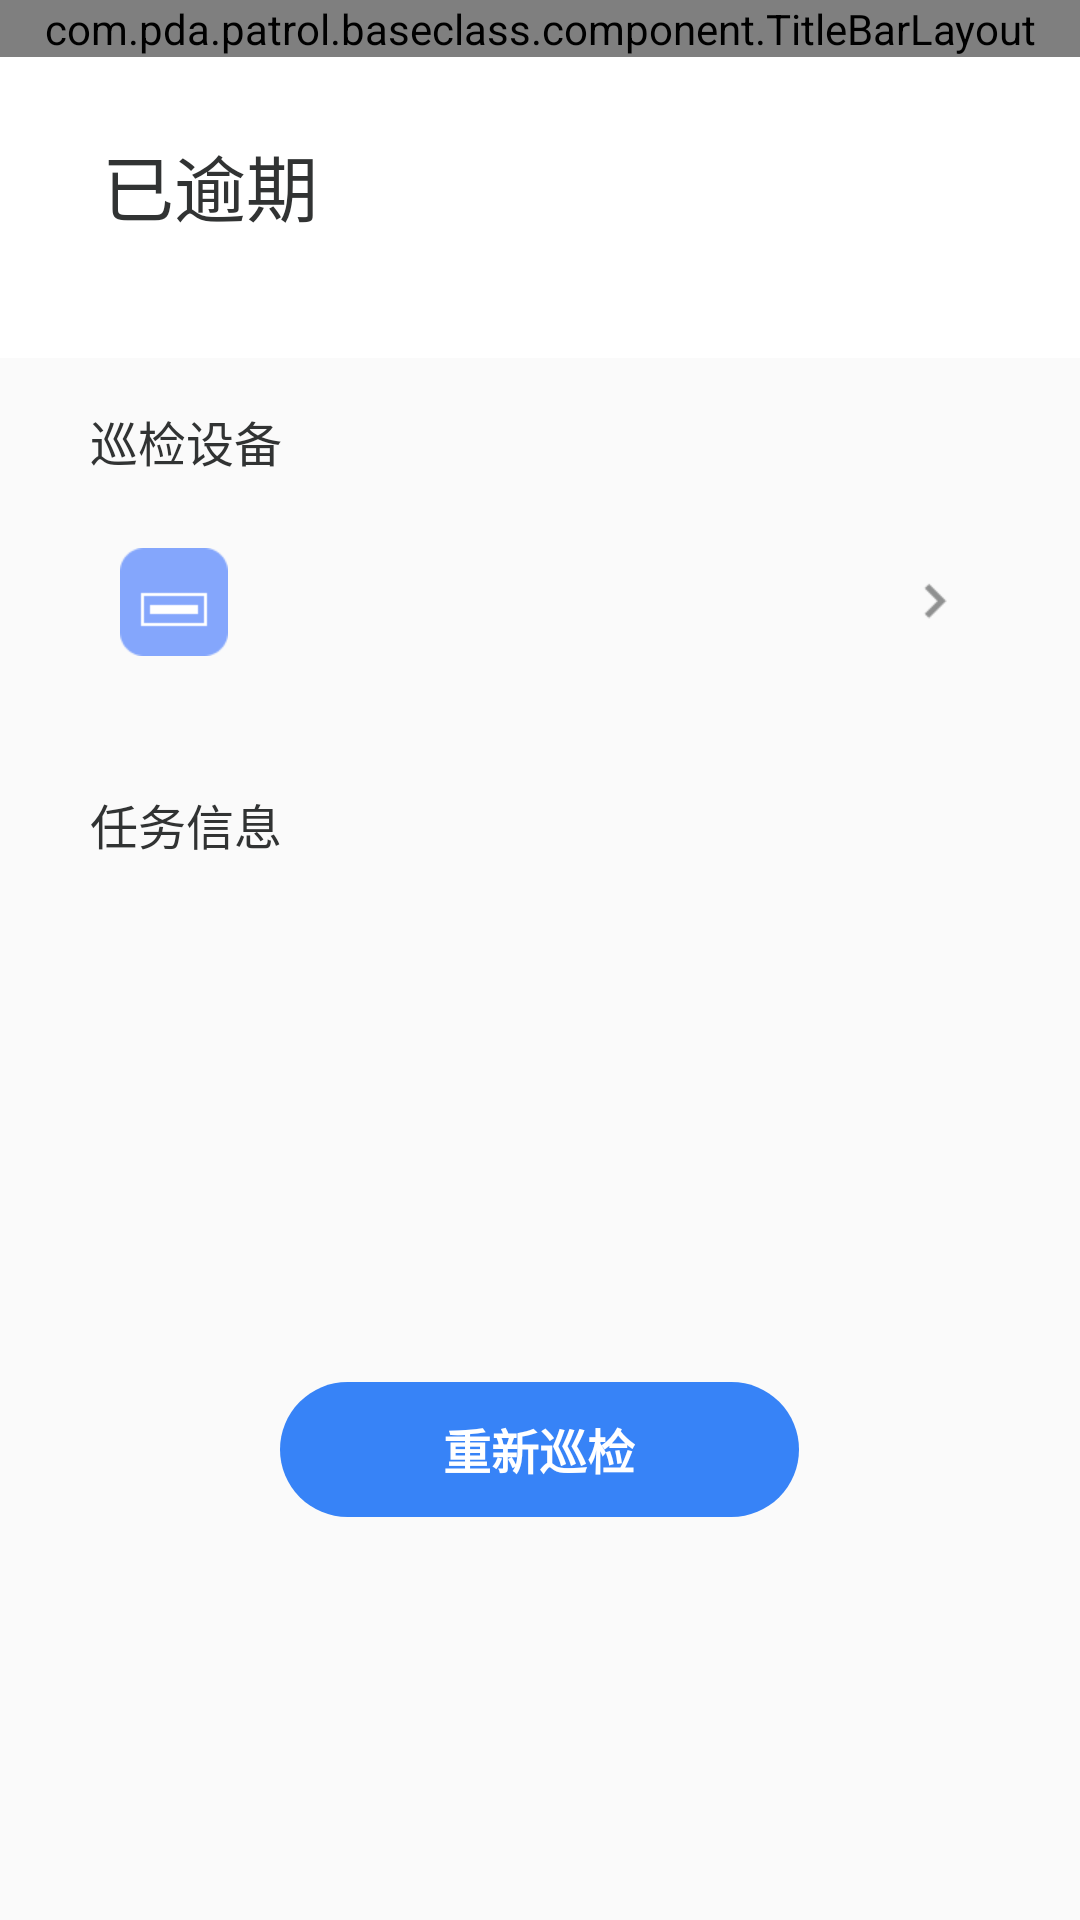

Screen size 1080 × 1920. Icon name, then its center in pixels as (x,y):
arrow right: (935,601)
rfid: (174,602)
